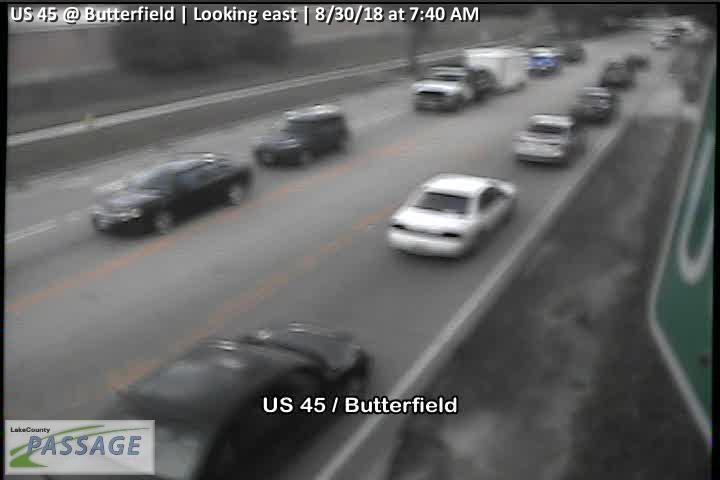SUV: (253, 105, 347, 168), (512, 113, 579, 167), (410, 65, 479, 111), (569, 84, 613, 122)
Sedan: (47, 321, 367, 480), (88, 151, 253, 237), (384, 173, 518, 261)
